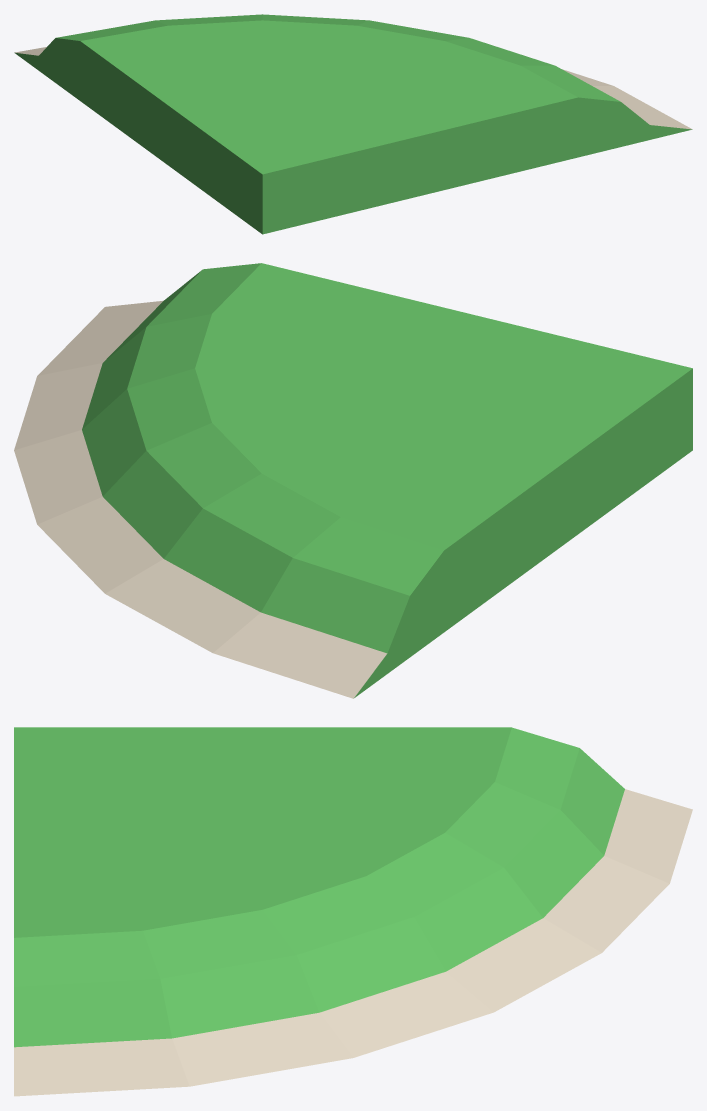
Rendered from Path_Corner_Inner_2x2.glb.
3 views of the same model, one above another, from view 1: azimuth 30°, elevation 25°; view 2: azimuth 150°, elevation 25°; view 3: azimuth 270°, elevation 25° (orthographic). The views are drawn at different scales.
Visible parts, largest first — view 1: object1; view 2: object1; view 3: object1.
Part boxes in pixels (left/top/right/bottom): object1: left=14, top=14, right=692, bottom=234; object1: left=14, top=263, right=692, bottom=698; object1: left=14, top=727, right=692, bottom=1096.
Bounding box in the file's own units: 1.5 × 0.2 × 1.5.
